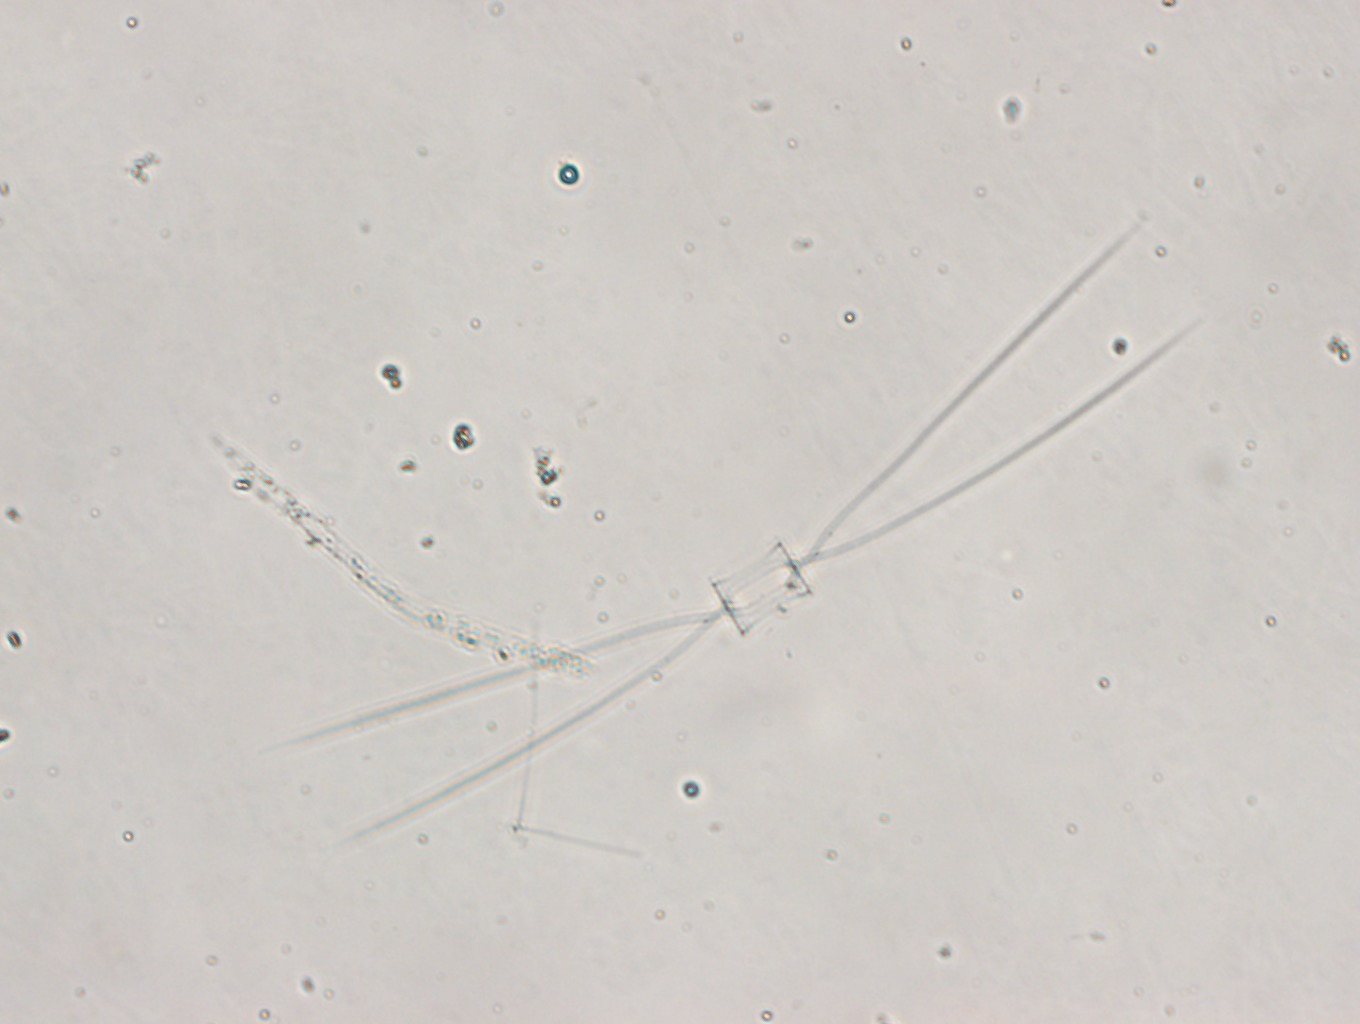chaetoceros: (273, 211, 1223, 850)
